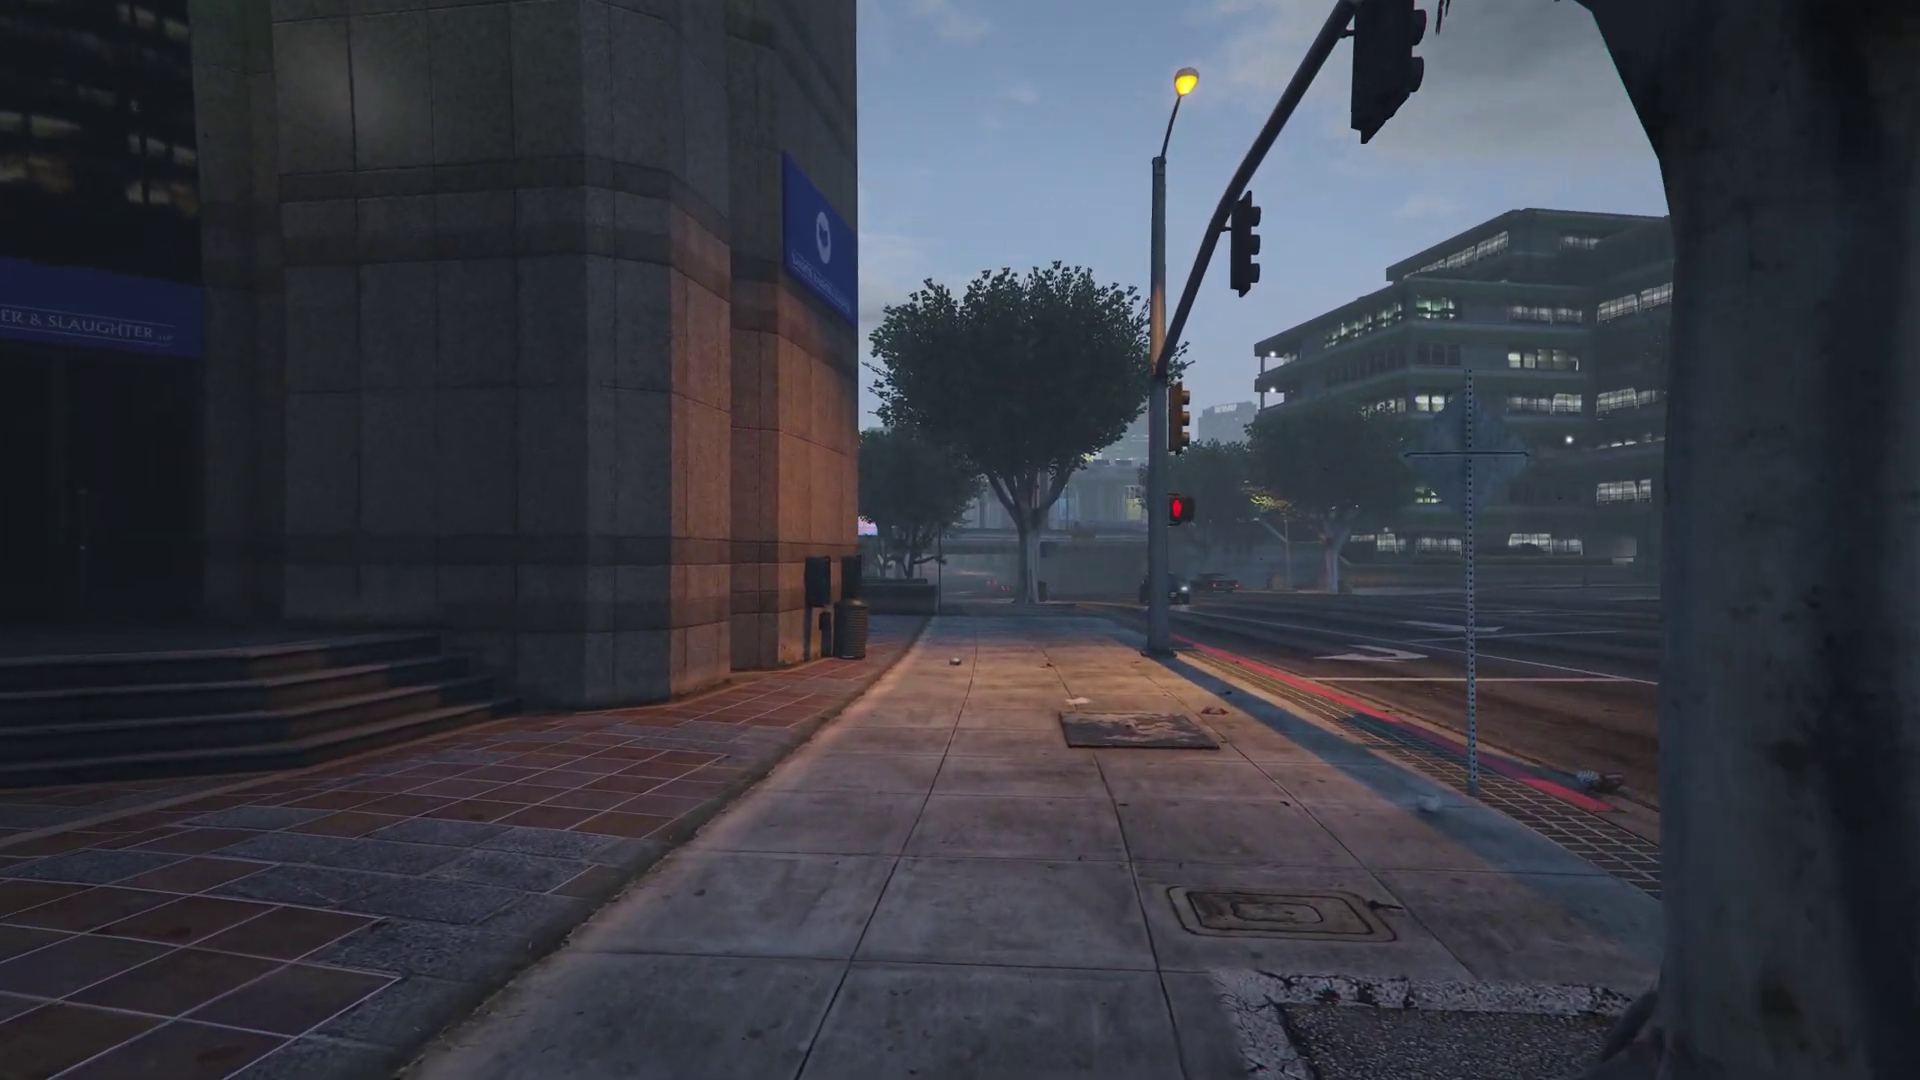car: (1139, 571, 1188, 605), (1191, 571, 1241, 596)
traffic light: (1352, 1, 1428, 137), (1226, 194, 1255, 298), (1167, 382, 1189, 456), (1164, 493, 1196, 525)
